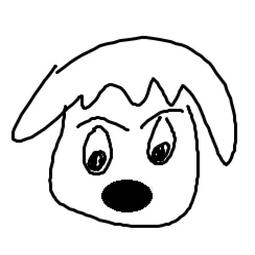eye: (143, 114, 179, 168), (82, 125, 115, 176)
eyebrow: (74, 114, 132, 132)
frowning_eyebrow: (135, 107, 184, 132)
open_mouth: (97, 176, 156, 217)
